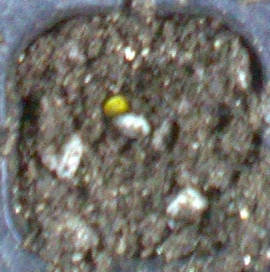pepper seed: (37, 36, 168, 153)
